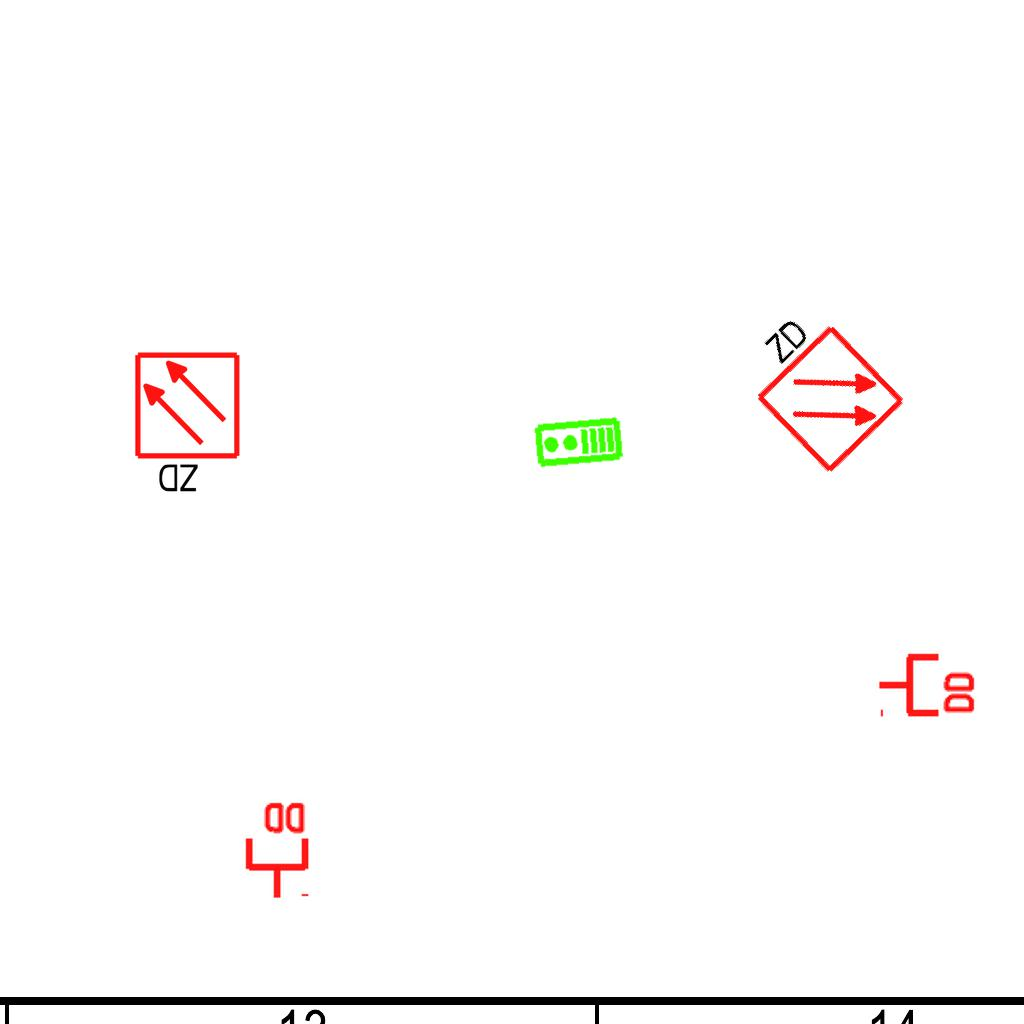Datenanschluss_zweifach: (876, 649, 979, 718), (241, 798, 310, 901)
Gegensprechanlage_mit_Video: (532, 415, 625, 471)
ZD_Melder_in_Zwischendecke_mit_Revisionsoeffnung_mind_40_x_40_cm: (723, 293, 909, 480), (132, 350, 246, 499)
